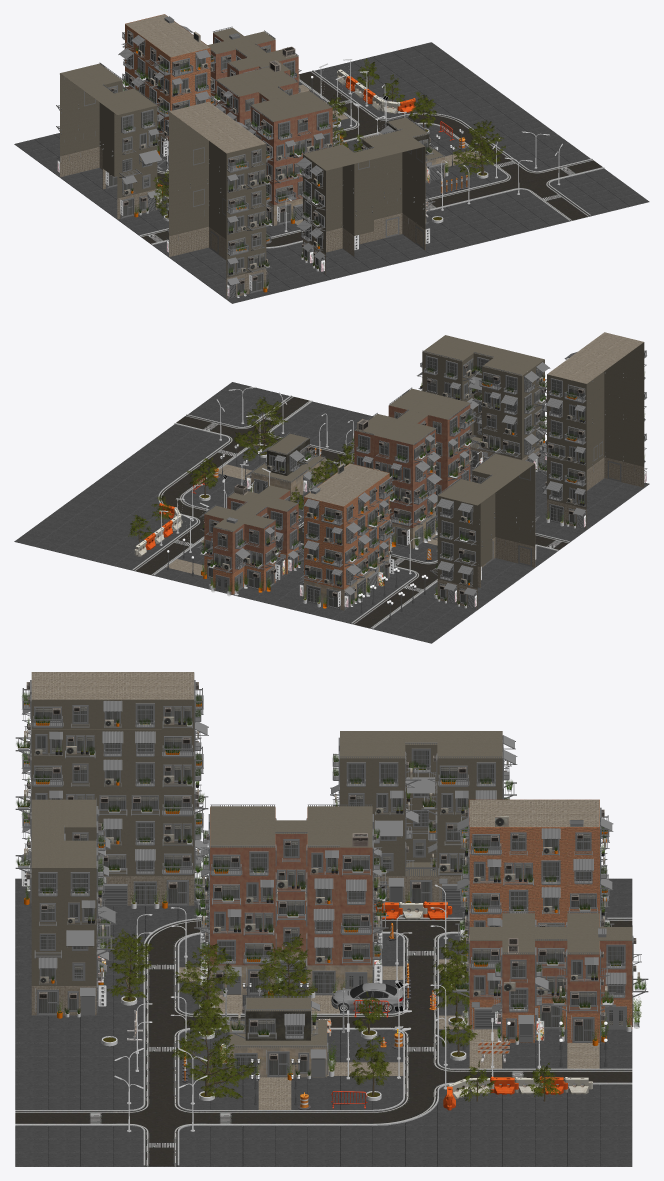
File: cidade-reduzida.glb
3 renders of one model, top to bottom at view 1: azimuth 30°, elevation 25°; view 2: azimuth 150°, elevation 25°; view 3: azimuth 270°, elevation 25°, orthographic. The views are drawn at different scales.
Parts seen in each view (by area): view 1: Road_1_Modular_Road_0.001_462, 10_Window_0.010_505, 3_Window_0.001_77, 3_Window_0.004_501, Window_AC_AC_0.001_491, Wall.005_Wall_0_0.001_504, Split_Ac_AC_0.001_470, Pot_9.003_Low_PolyPlant_0.002_473, 3_Window_0.003_471, Road_4_Modular_Road_0.001_177, Road_0_Modular_Road_0.004_67, Road_2_Modular_Road_0.002_45 (+5 smaller); view 2: Road_1_Modular_Road_0.001_462, 10_Window_0.010_505, Window_AC_AC_0.001_491, Wall.005_Wall_0_0.001_504, 3_Window_0.004_501, 3_Window_0.001_77, Split_Ac_AC_0.001_470, 3_Window_0.003_471, Pot_9.003_Low_PolyPlant_0.002_473, Road_4_Modular_Road_0.001_177, Road_0_Modular_Road_0.013_197, Road_0_Modular_Road_0.009_493 (+4 smaller); view 3: Road_1_Modular_Road_0.001_462, 10_Window_0.010_505, Window_AC_AC_0.001_491, 3_Window_0.004_501, Split_Ac_AC_0.001_470, Wall.005_Wall_0_0.001_504, 3_Window_0.001_77, 3_Window_0.003_471, Pot_9.003_Low_PolyPlant_0.002_473, Road_4_Modular_Road_0.001_177, Pot_9.003_Low_PolyPlant_0.011_502, Pot_9.003_Low_PolyPlant_0.001_472 (+19 smaller).
Boxes of the visible parts, x1,y1,x2,y2 form: Road_1_Modular_Road_0.001_462: [14, 42, 649, 303]; 10_Window_0.010_505: [166, 101, 271, 299]; 3_Window_0.001_77: [296, 128, 435, 274]; 3_Window_0.004_501: [56, 62, 166, 219]; Window_AC_AC_0.001_491: [208, 60, 340, 225]; Wall.005_Wall_0_0.001_504: [118, 14, 215, 160]; Split_Ac_AC_0.001_470: [207, 26, 301, 105]; Pot_9.003_Low_PolyPlant_0.002_473: [452, 120, 505, 178]; 3_Window_0.003_471: [379, 116, 449, 183]; Road_4_Modular_Road_0.001_177: [493, 165, 564, 195]; Road_0_Modular_Road_0.004_67: [433, 183, 504, 207]; Road_2_Modular_Road_0.002_45: [341, 112, 402, 139]; Road_1_Modular_Road_0.001_462: [14, 382, 649, 643]; 10_Window_0.010_505: [537, 332, 647, 529]; Window_AC_AC_0.001_491: [346, 387, 478, 549]; Wall.005_Wall_0_0.001_504: [295, 463, 394, 610]; 3_Window_0.004_501: [430, 452, 539, 609]; 3_Window_0.001_77: [417, 335, 550, 471]; Split_Ac_AC_0.001_470: [196, 484, 301, 596]; 3_Window_0.003_471: [245, 432, 325, 501]; Pot_9.003_Low_PolyPlant_0.002_473: [234, 396, 287, 461]; Road_4_Modular_Road_0.001_177: [214, 421, 282, 451]; Road_0_Modular_Road_0.013_197: [132, 544, 188, 575]; Road_0_Modular_Road_0.009_493: [363, 589, 418, 620]; Road_1_Modular_Road_0.001_462: [15, 878, 632, 1166]; 10_Window_0.010_505: [15, 672, 208, 908]; Window_AC_AC_0.001_491: [194, 804, 388, 998]; 3_Window_0.004_501: [330, 731, 517, 905]; Split_Ac_AC_0.001_470: [453, 911, 648, 1045]; Wall.005_Wall_0_0.001_504: [455, 799, 614, 970]; 3_Window_0.001_77: [31, 798, 117, 1018]; 3_Window_0.003_471: [220, 996, 336, 1080]; Pot_9.003_Low_PolyPlant_0.002_473: [171, 1011, 256, 1100]; Road_4_Modular_Road_0.001_177: [113, 1096, 210, 1138]; Pot_9.003_Low_PolyPlant_0.011_502: [104, 928, 154, 1005]; Pot_9.003_Low_PolyPlant_0.001_472: [255, 934, 317, 997].
Bounding box in the file's own units: 42 × 14.05 × 39.18.
Materials: 22 (21 with a texture image).
